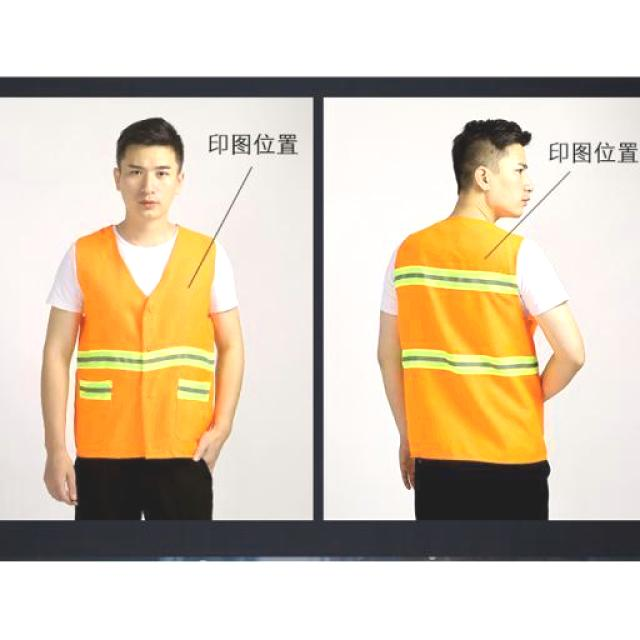face_nomask: (121, 159, 178, 213), (494, 160, 538, 210)
hand_noglove: (36, 454, 84, 508), (190, 422, 230, 476)
head_nohelmet: (450, 112, 534, 156), (114, 114, 192, 158)
person: (29, 112, 258, 519), (369, 102, 591, 517)
vest: (68, 220, 228, 464), (401, 218, 557, 467)
